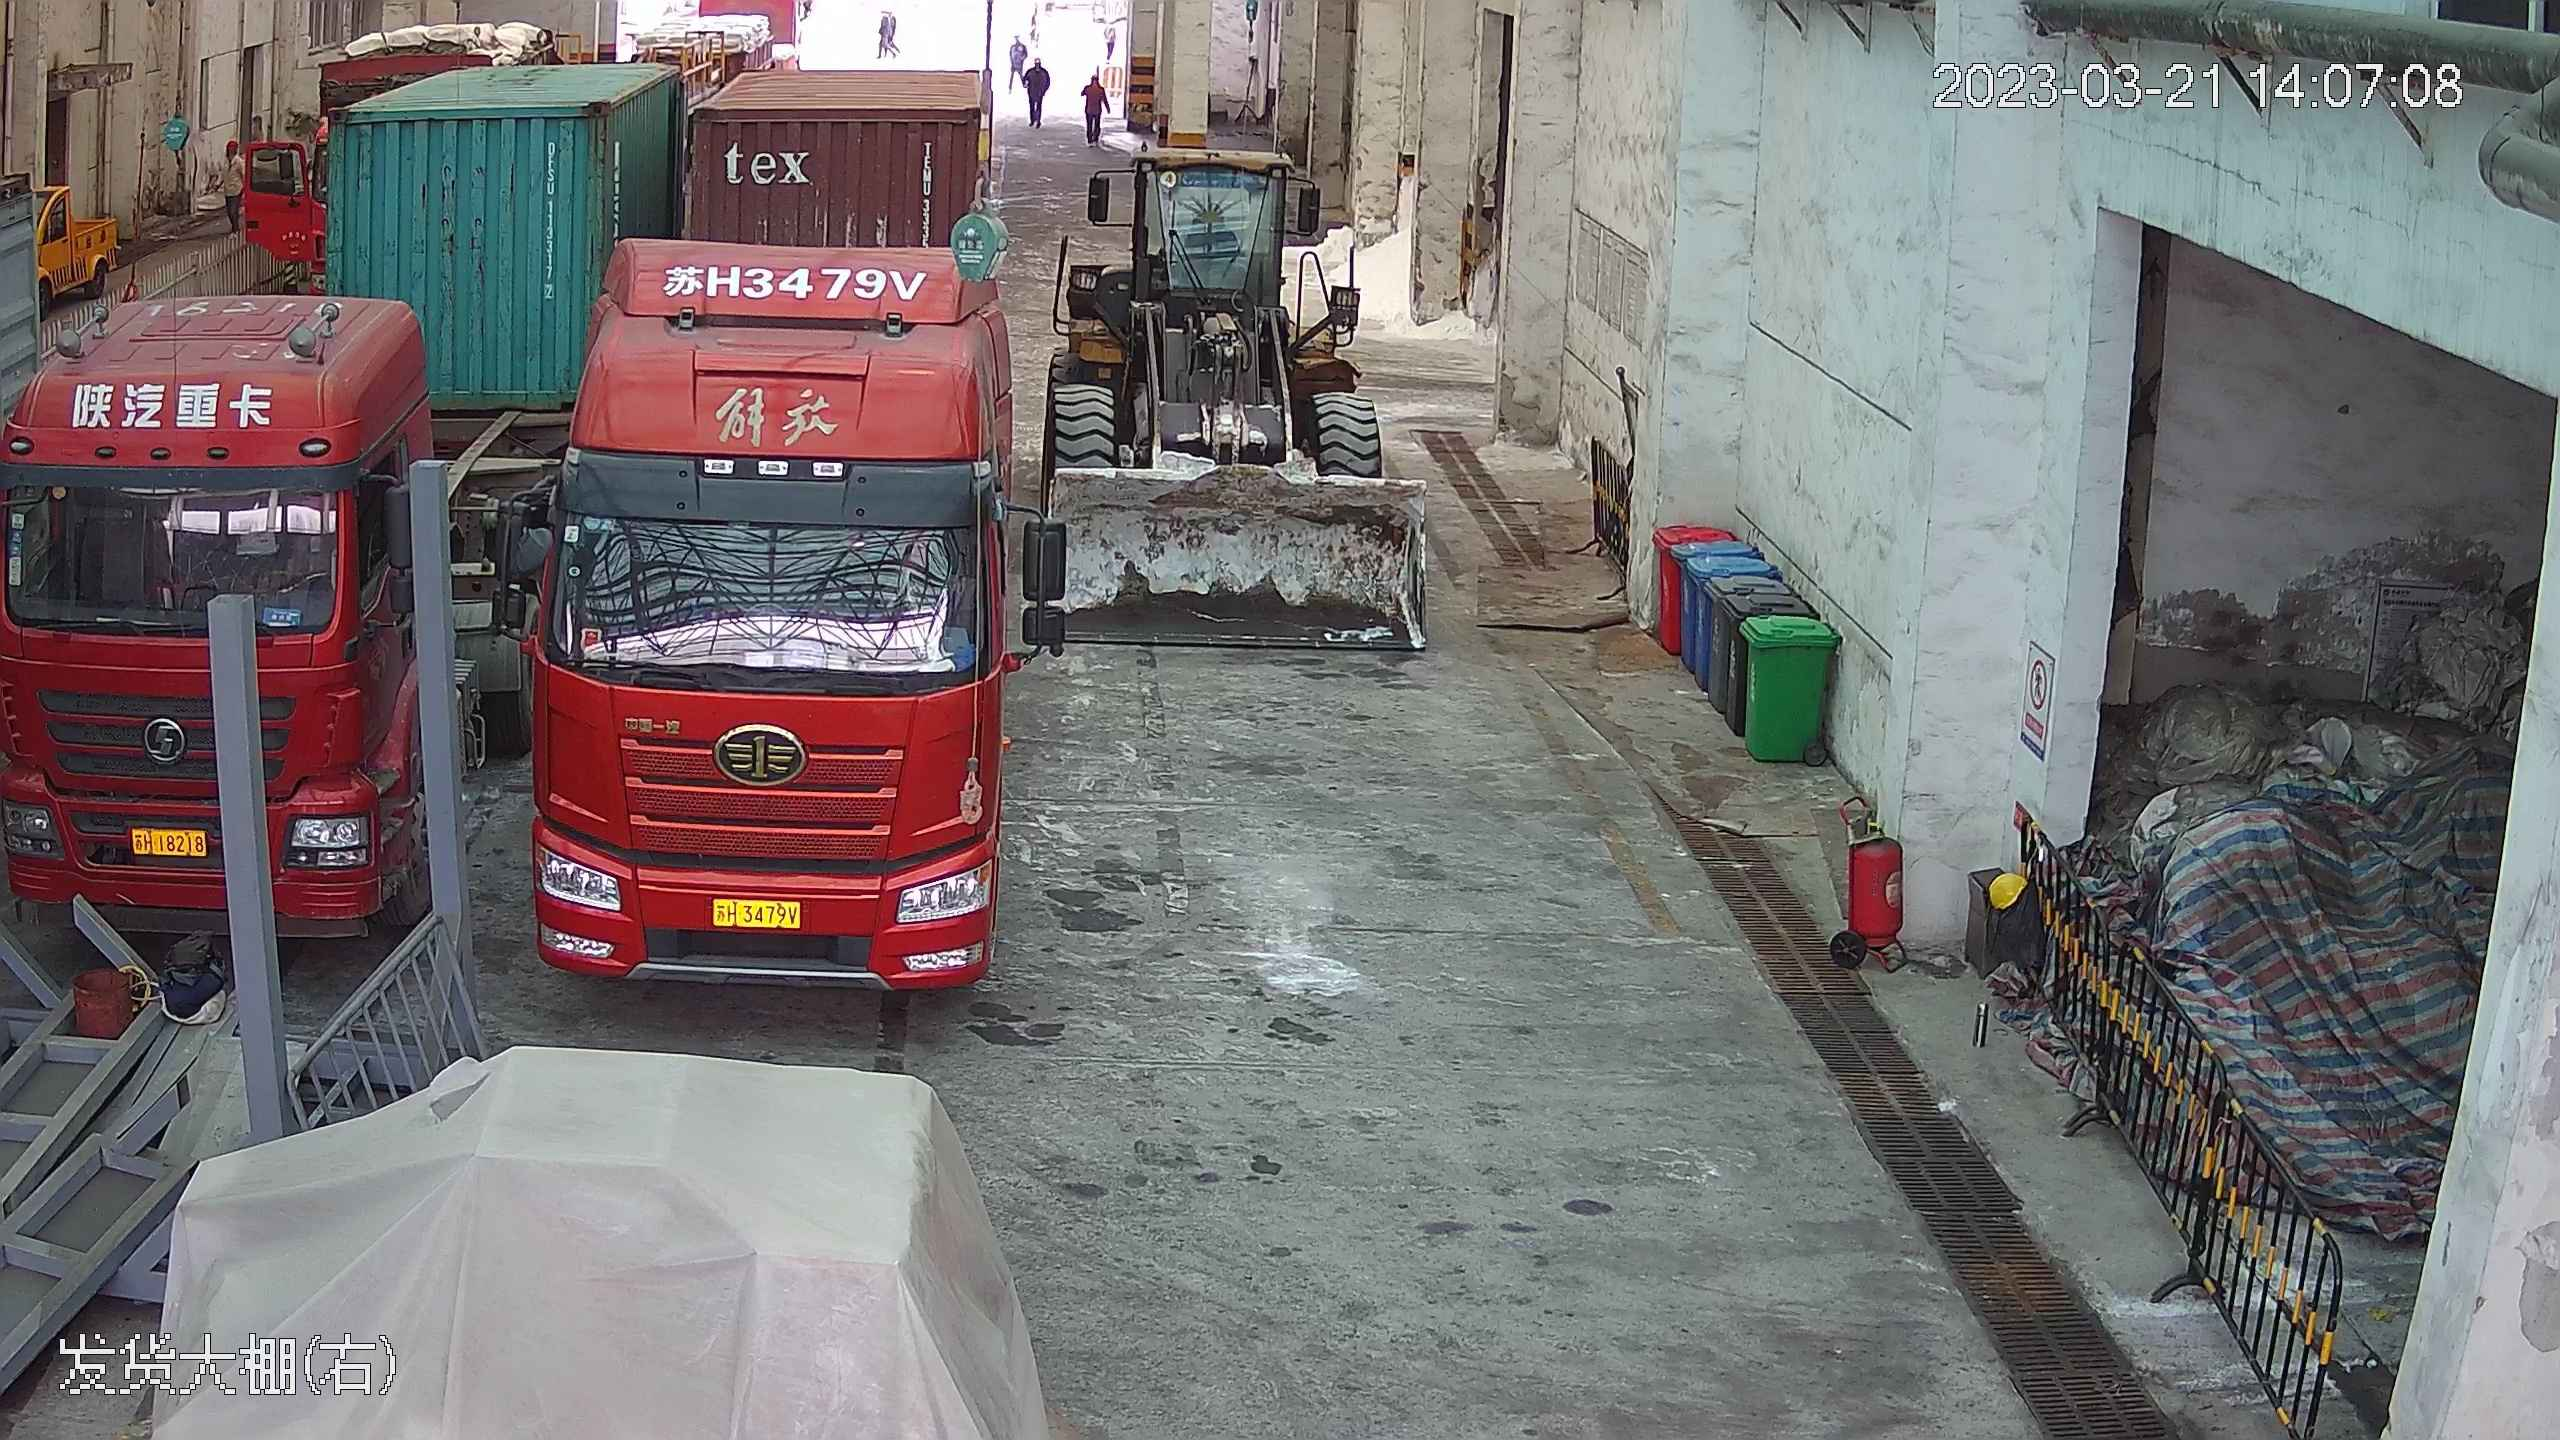head: (1082, 62, 1104, 96)
helmet: (1986, 866, 2028, 912)
people: (1077, 60, 1107, 147), (1018, 42, 1048, 123)
truck: (501, 32, 1041, 990), (0, 21, 486, 967)
